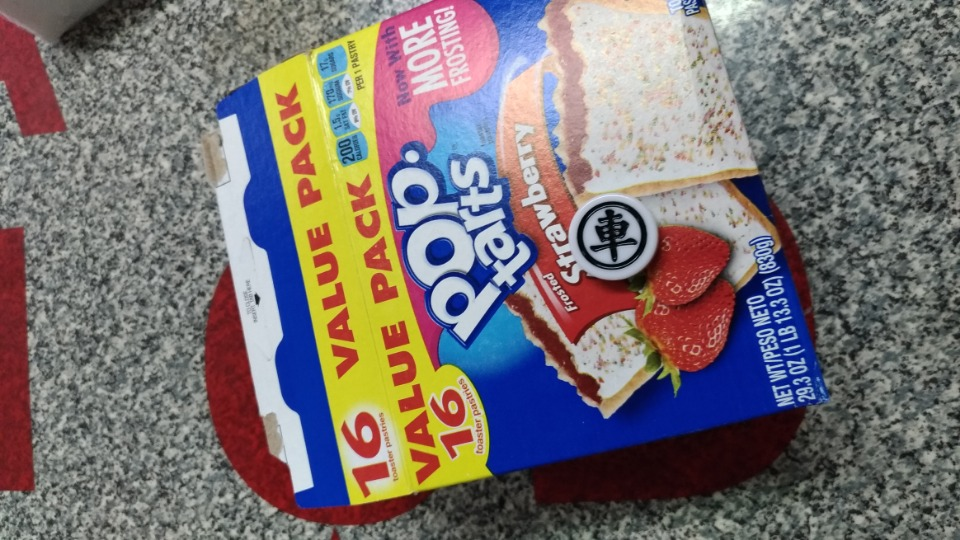b-king: (555, 193, 688, 285)
